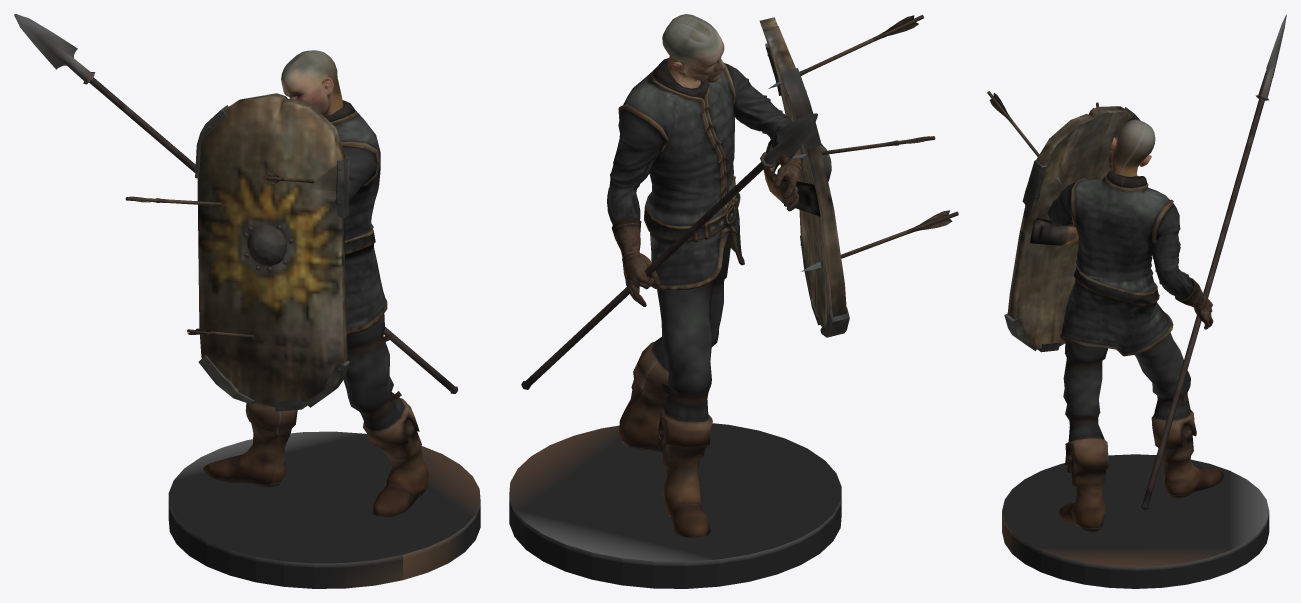
3 renders of one model, left to right at view 1: azimuth 30°, elevation 25°; view 2: azimuth 150°, elevation 25°; view 3: azimuth 270°, elevation 25°, orthographic. The views are drawn at different scales.
Parts seen in each view (by area): view 1: bolt.smd; view 2: bolt.smd; view 3: bolt.smd.
Boxes of the visible parts, x1=… form: bolt.smd: x1=14, y1=14, x2=480, y2=588; bolt.smd: x1=509, y1=14, x2=958, y2=588; bolt.smd: x1=987, y1=14, x2=1286, y2=588.
Bounding box in the file's own units: 1.33 × 1.76 × 1.12.
1 material, 1 textured.
